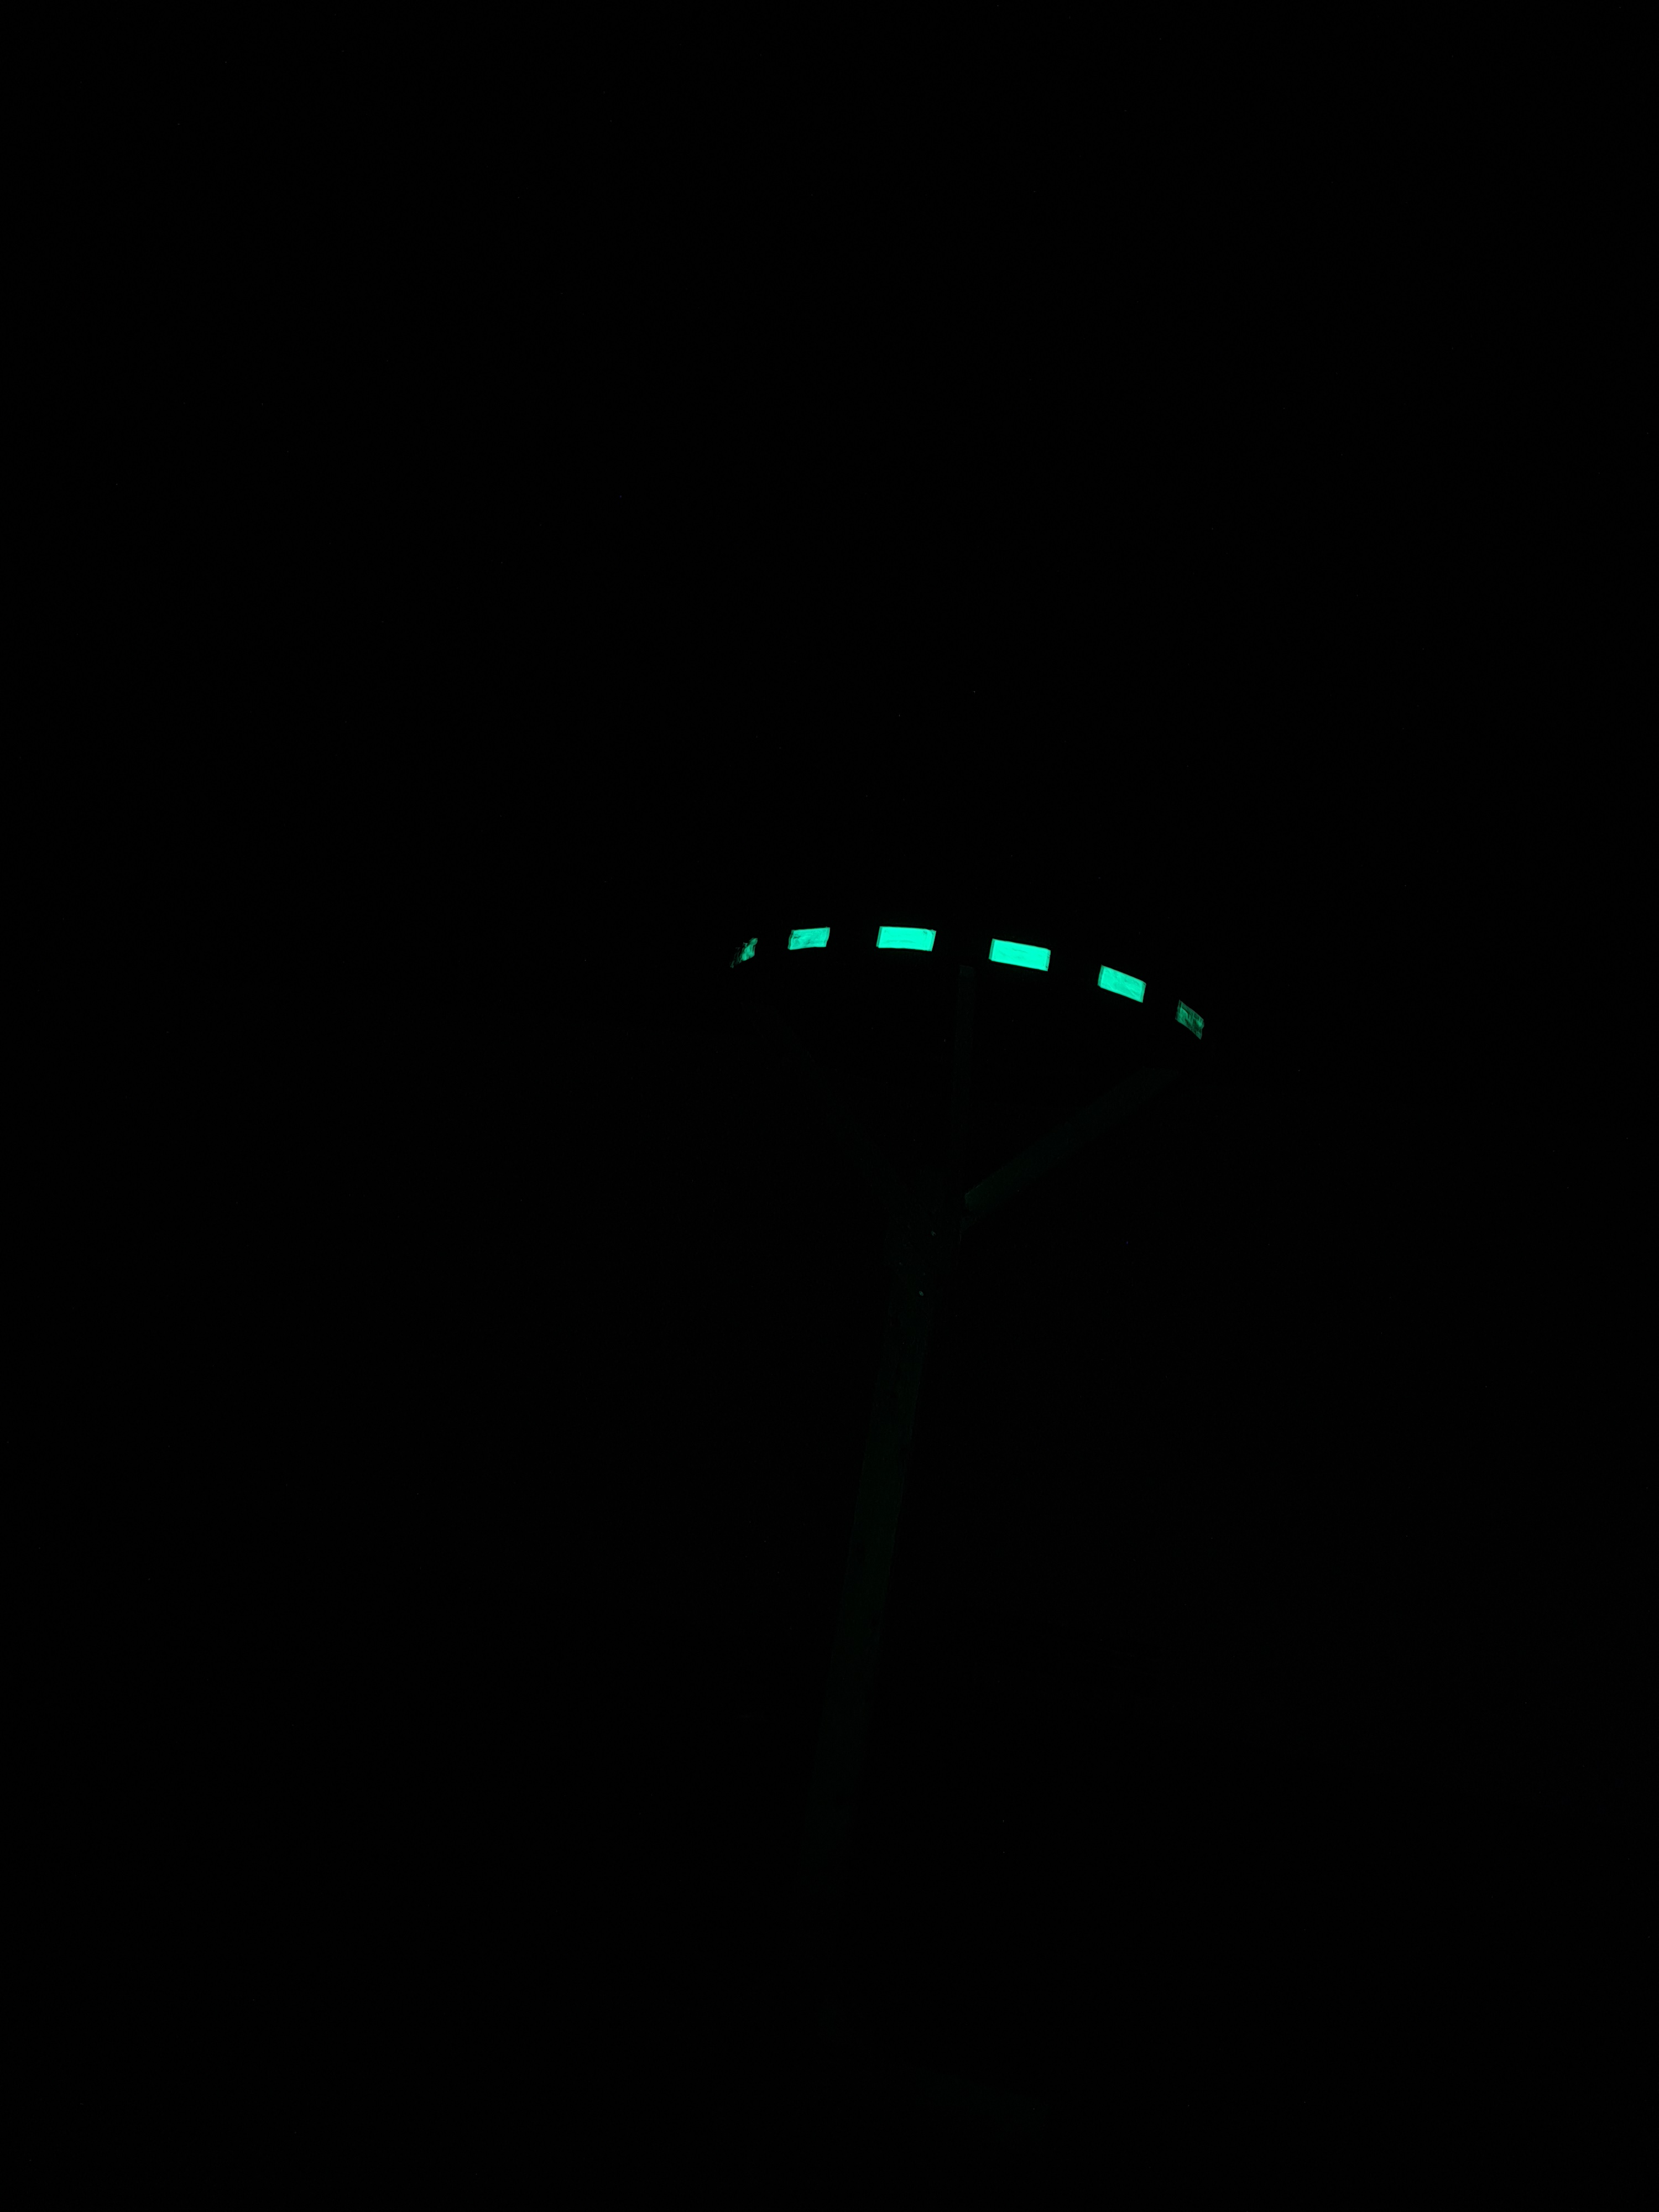hoop: (723, 907, 1213, 1054)
